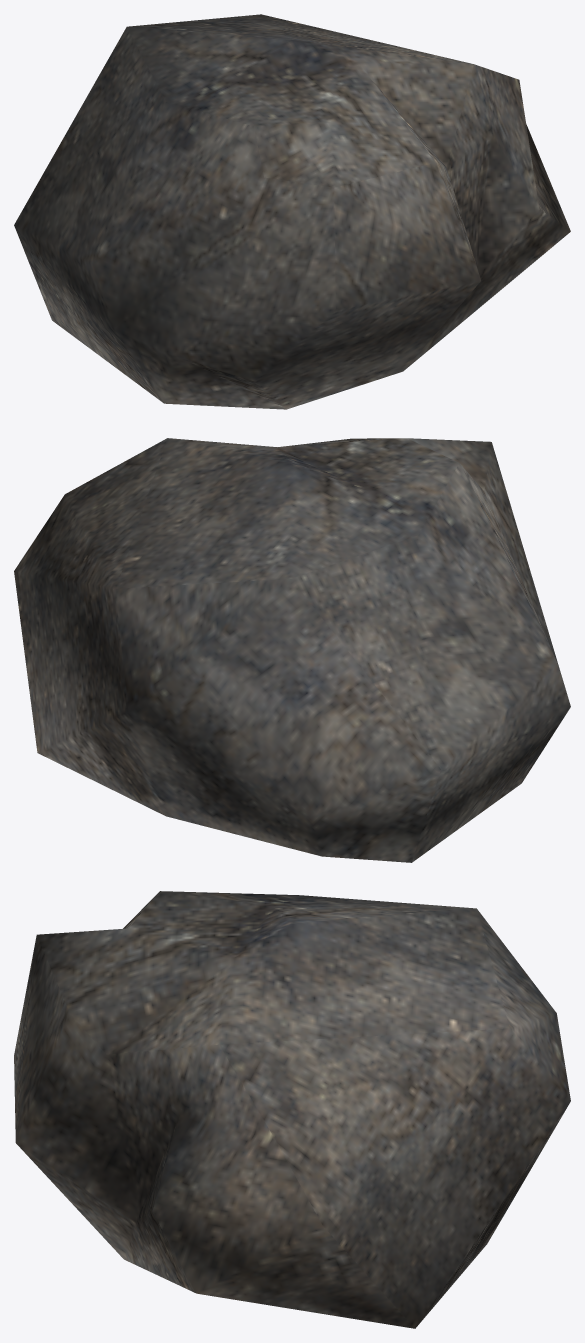
File: RockSm2_1_LOD1.fbx
3 views of the same model, one above another, from view 1: azimuth 30°, elevation 25°; view 2: azimuth 150°, elevation 25°; view 3: azimuth 270°, elevation 25° (orthographic). The views are drawn at different scales.
Visible parts, largest first — view 1: polySurface228; view 2: polySurface228; view 3: polySurface228.
Part boxes in pixels (x1,y1,x2,y2): polySurface228: (14, 14, 570, 409); polySurface228: (14, 438, 570, 862); polySurface228: (14, 891, 570, 1328).
Size of the model in its own units: 109 by 67.91 by 100.
